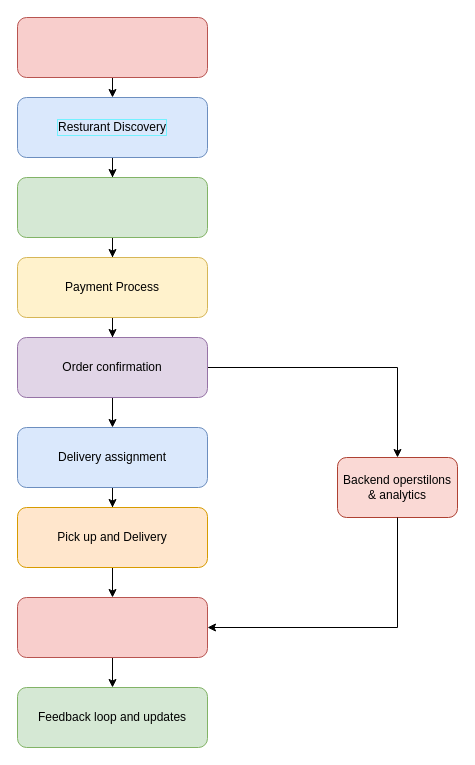
This 475x765 diagram has some shape labels left out. Here are the shapes that lost their labels. From the top down, the centre of each, then its label:
(112,47): User Onboarding
(112,207): Order Placement
(112,627): Post Delivery
